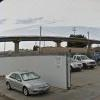Bridge: (3, 18, 91, 51)
